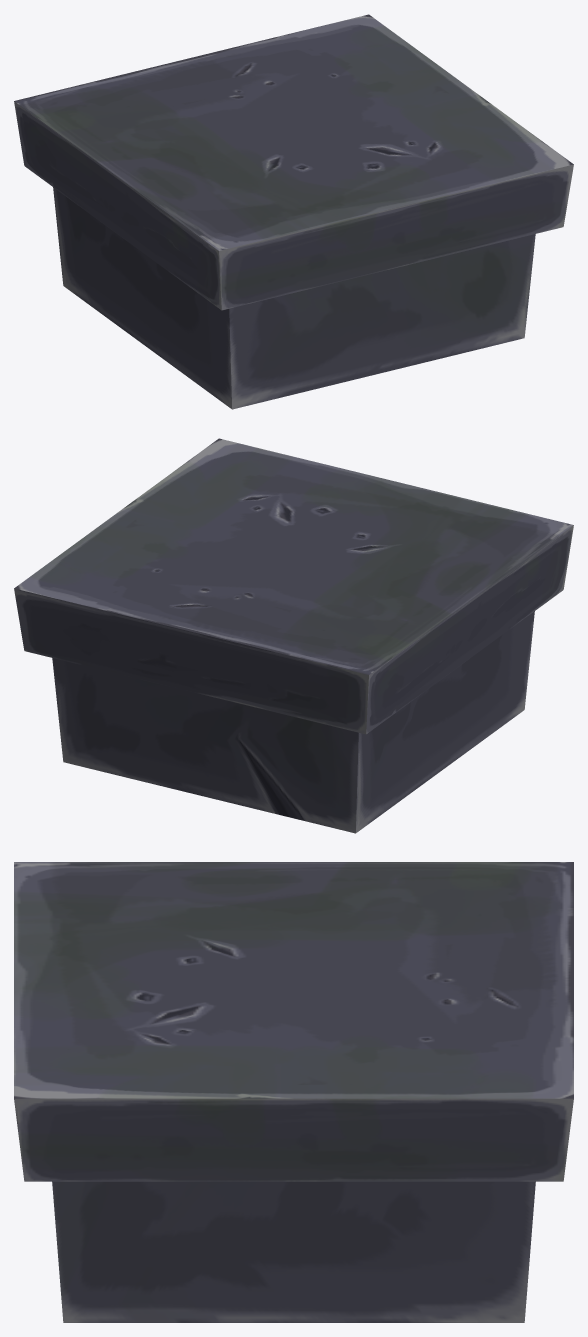
The model's file is MOD_Column_01_capital.fbx.
The picture shows the model from 3 angles, top to bottom: view 1: azimuth 30°, elevation 25°; view 2: azimuth 150°, elevation 25°; view 3: azimuth 270°, elevation 25°; orthographic projection. The views are drawn at different scales.
Parts seen in each view (by area): view 1: MOD_Column_01_capital; view 2: MOD_Column_01_capital; view 3: MOD_Column_01_capital.
Part boxes in pixels (x1,y1,x2,y2): MOD_Column_01_capital: (14, 14, 573, 409); MOD_Column_01_capital: (14, 438, 573, 833); MOD_Column_01_capital: (14, 862, 573, 1322).
Size of the model in its own units: 122 by 59.02 by 122.
